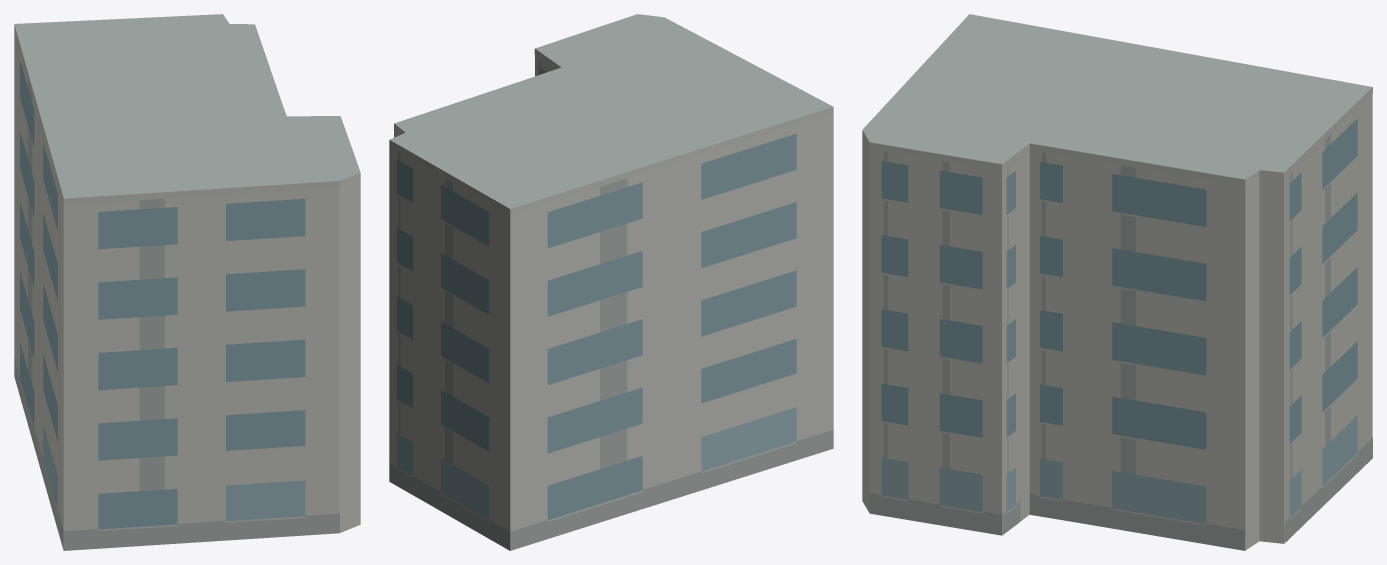
The model's file is survey-upis-33026366.glb.
3 views of the same model, side by side, from view 1: azimuth 30°, elevation 25°; view 2: azimuth 150°, elevation 25°; view 3: azimuth 270°, elevation 25° (orthographic). The views are drawn at different scales.
Visible parts, largest first — view 1: survey-upis-33026366.tmp; view 2: survey-upis-33026366.tmp; view 3: survey-upis-33026366.tmp.
Part boxes in pixels (x1,y1,x2,y2): survey-upis-33026366.tmp: (14, 14, 360, 550); survey-upis-33026366.tmp: (389, 14, 833, 550); survey-upis-33026366.tmp: (862, 14, 1372, 550).
Size of the model in its own units: 12.73 by 13.3 by 16.58.
